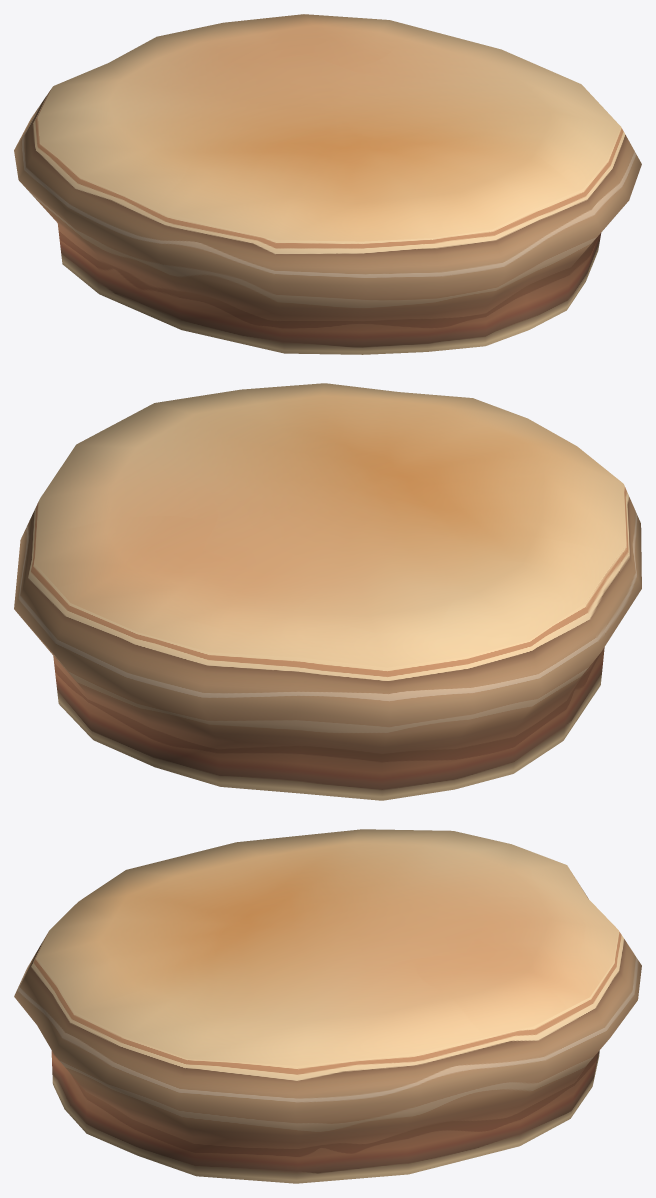
File: Mount_Big_02.FBX
The picture shows the model from 3 angles, top to bottom: view 1: azimuth 30°, elevation 25°; view 2: azimuth 150°, elevation 25°; view 3: azimuth 270°, elevation 25°; orthographic projection. The views are drawn at different scales.
Parts seen in each view (by area): view 1: Mount_Big_02; view 2: Mount_Big_02; view 3: Mount_Big_02.
Boxes of the visible parts, x1,y1,x2,y2 form: Mount_Big_02: [14, 14, 641, 354]; Mount_Big_02: [14, 383, 641, 800]; Mount_Big_02: [14, 829, 641, 1183].
Size of the model in its own units: 26.35 by 7.09 by 27.63.
